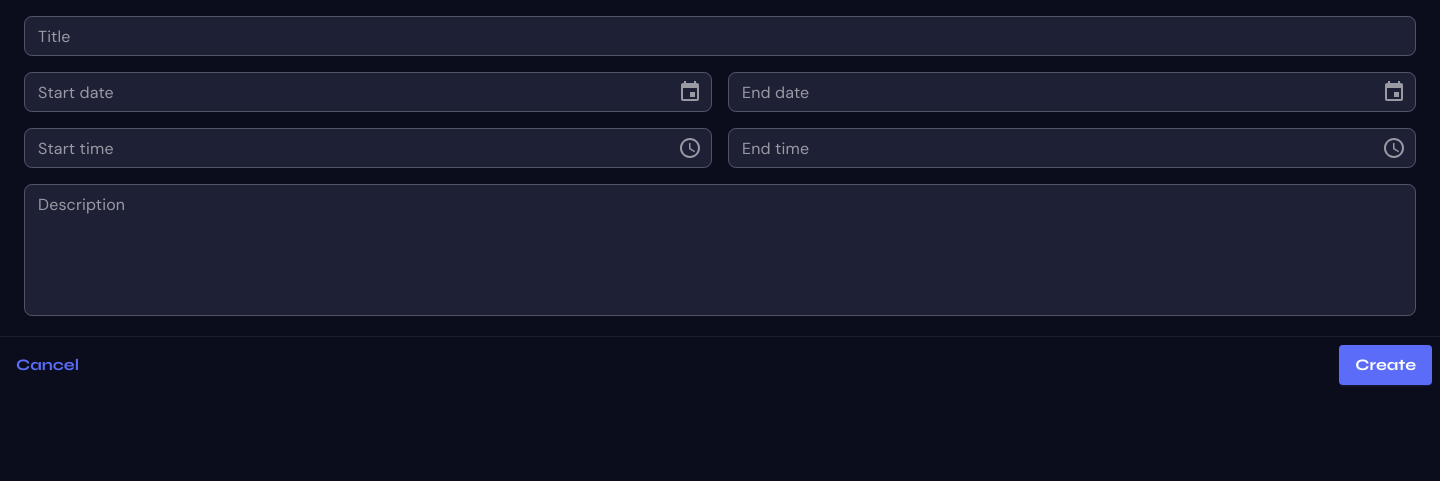
Test: <CreateEventForm /> › should render render all the error messages
Click the button "Create".
click(1386, 365)  # box [1339, 345, 1432, 385]
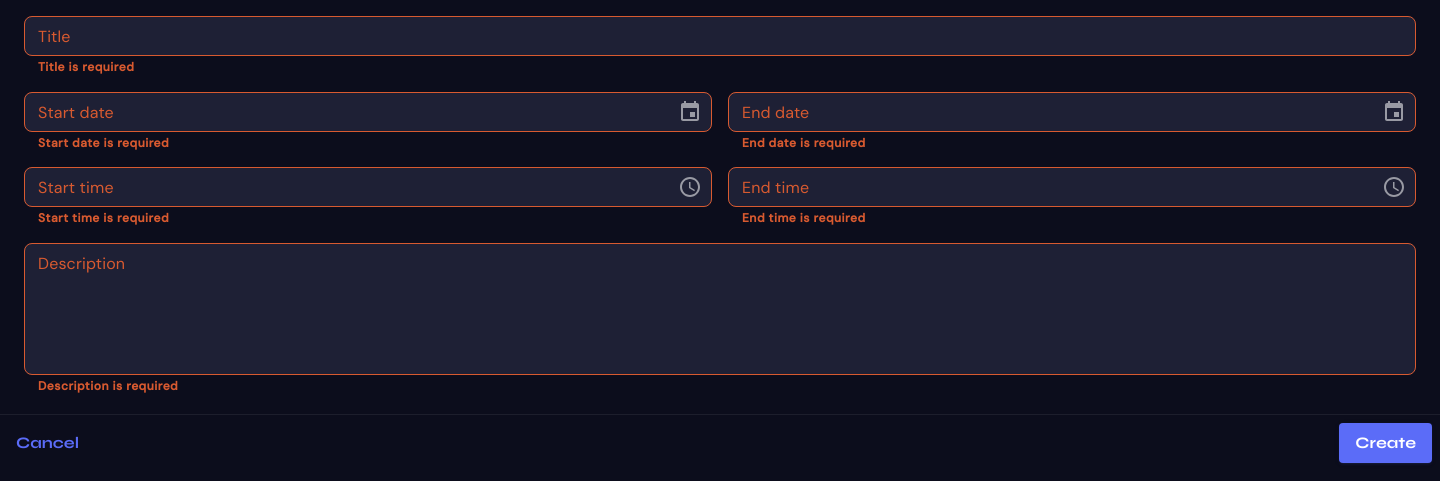
Expected: the text "Title is required" is shown, [38, 59, 134, 75]
Expected: the text "Description is required" is shown, [38, 378, 178, 394]
Expected: the text "Start date is required" is shown, [38, 135, 169, 151]
